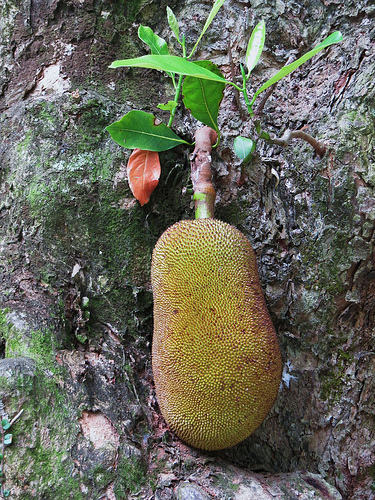jackfruit: (151, 217, 282, 452)
